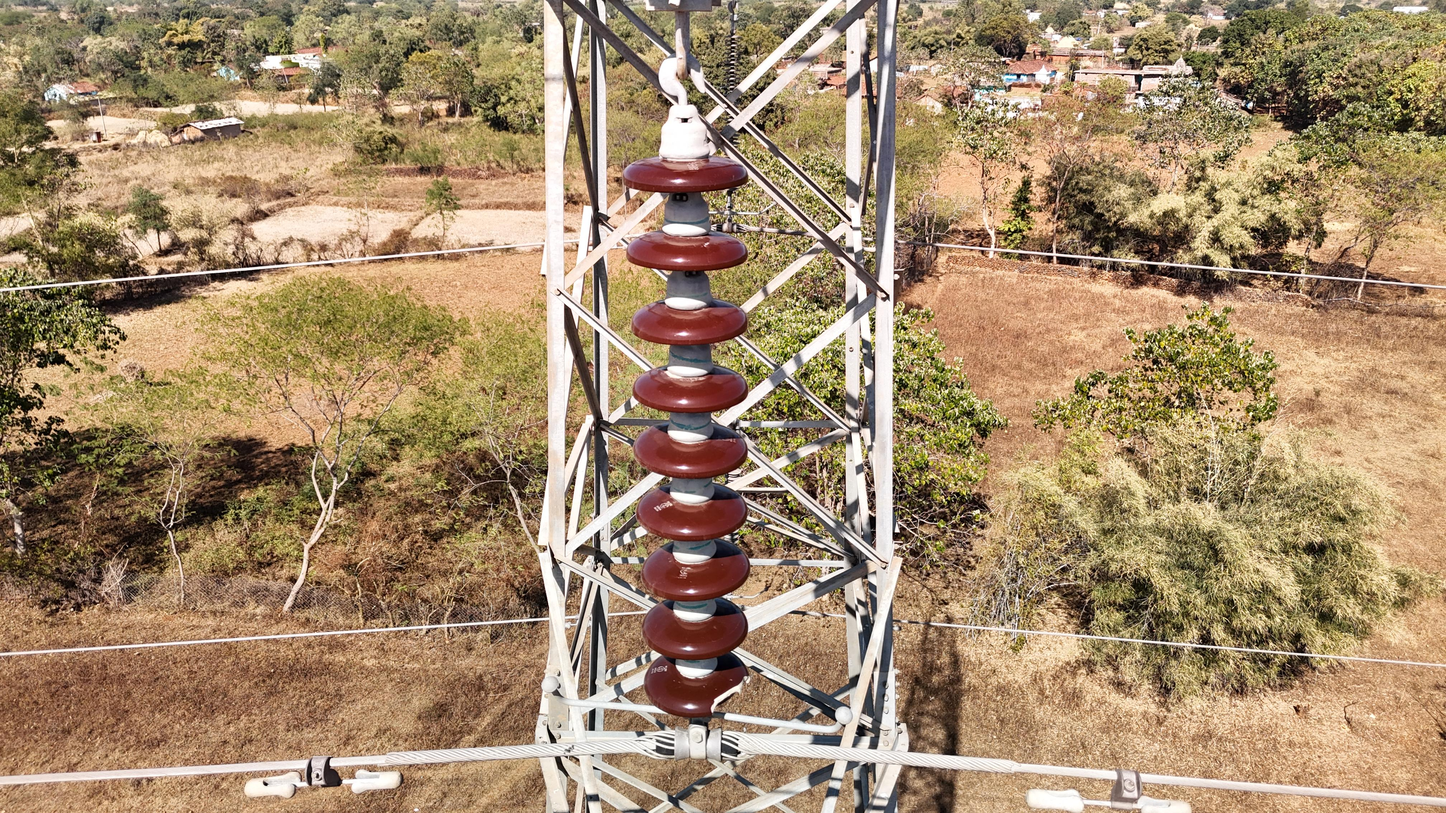broken_insulator: (634, 658, 770, 727)
